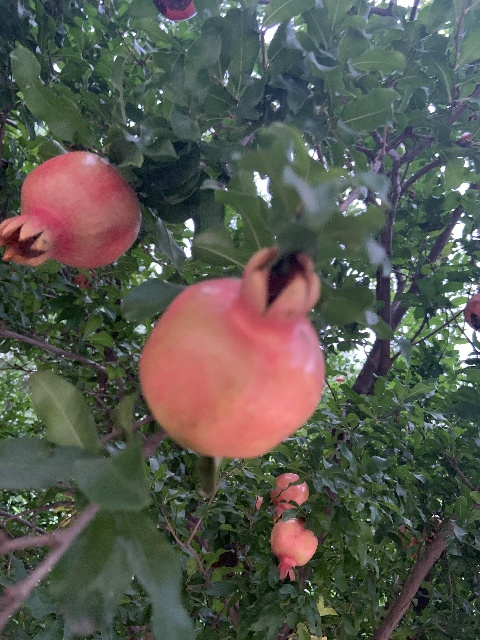ripe: (138, 245, 326, 460), (0, 150, 142, 269), (270, 518, 318, 581), (269, 473, 308, 520), (74, 269, 96, 288)
